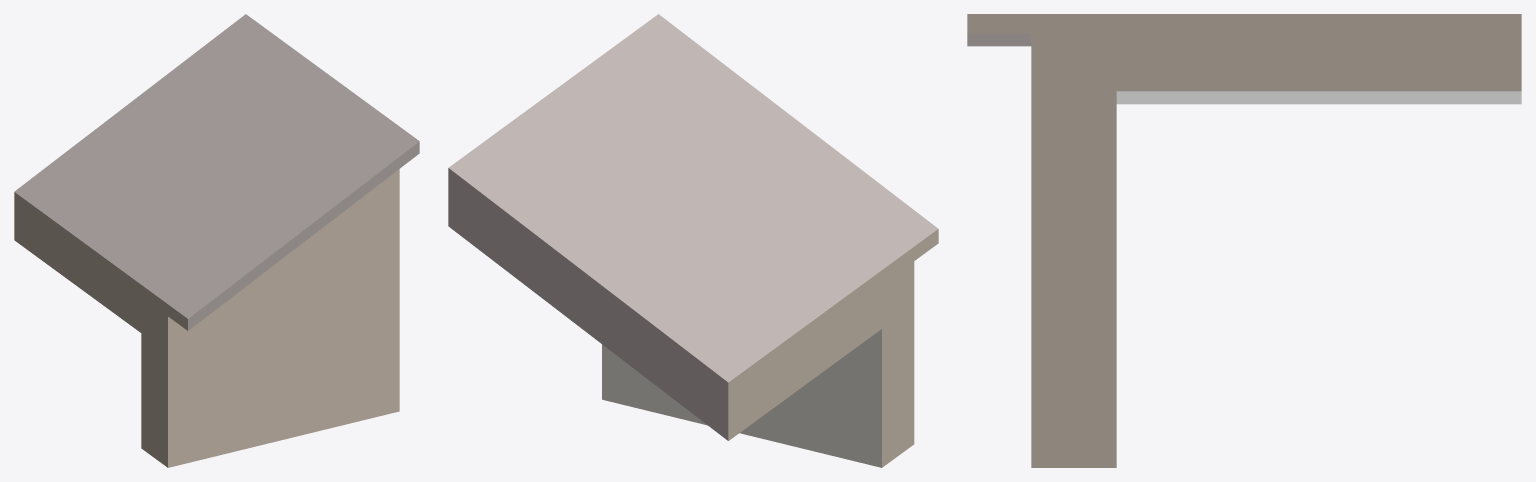
The model's file is Structure_Roof_Edge_Full.fbx.
3 renders of one model, left to right at view 1: azimuth 30°, elevation 25°; view 2: azimuth 150°, elevation 25°; view 3: azimuth 270°, elevation 25°, orthographic. The views are drawn at different scales.
Visible parts, largest first — view 1: object1.099; view 2: object1.099; view 3: object1.099.
Part boxes in pixels (box(x1,y1,x2,y2)): object1.099: box(14, 14, 419, 467); object1.099: box(448, 14, 938, 467); object1.099: box(967, 14, 1521, 467).
Size of the model in its own units: 100 by 118 by 130.
